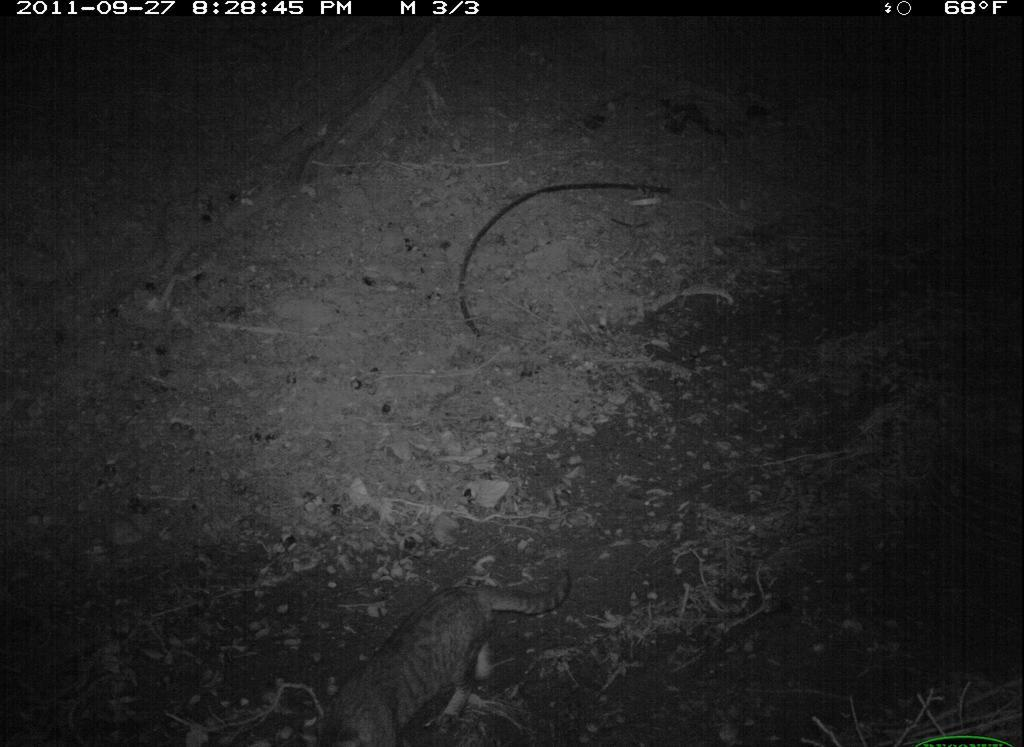cat: (298, 558, 583, 747)
